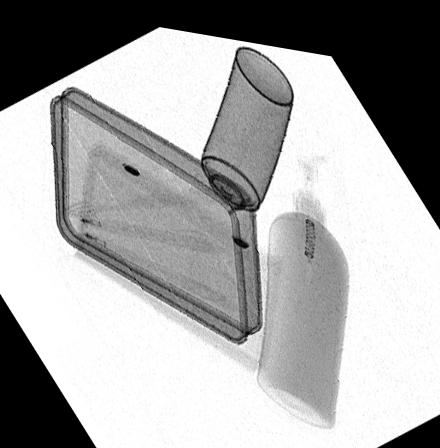Sprayer: (188, 38, 293, 240)
